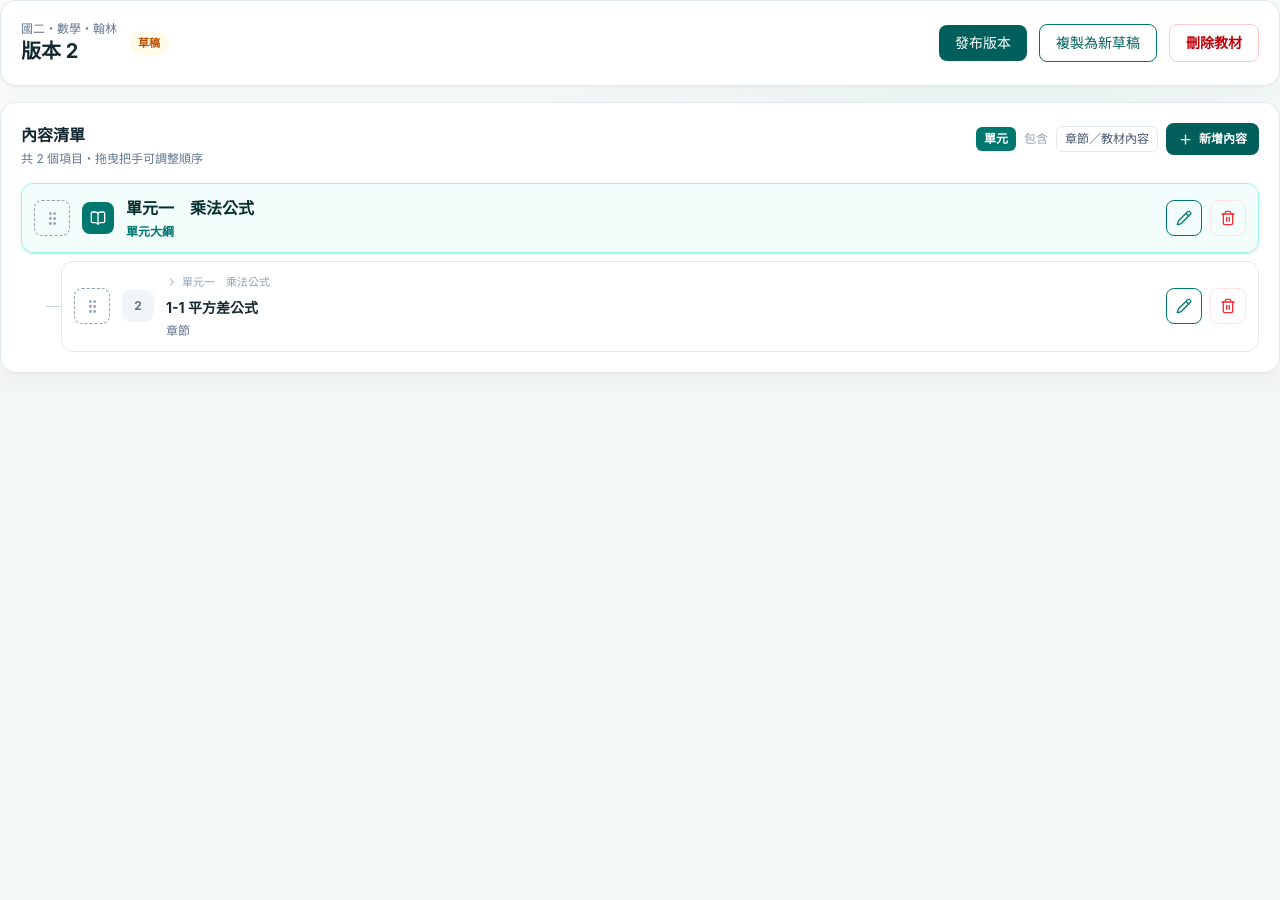
Test: CurriculumDetailView › keeps editing and deleting mutually exclusive across items
Click the button named "刪除「單元一　乘法公式」": [1228, 218] box [1210,200,1246,236]
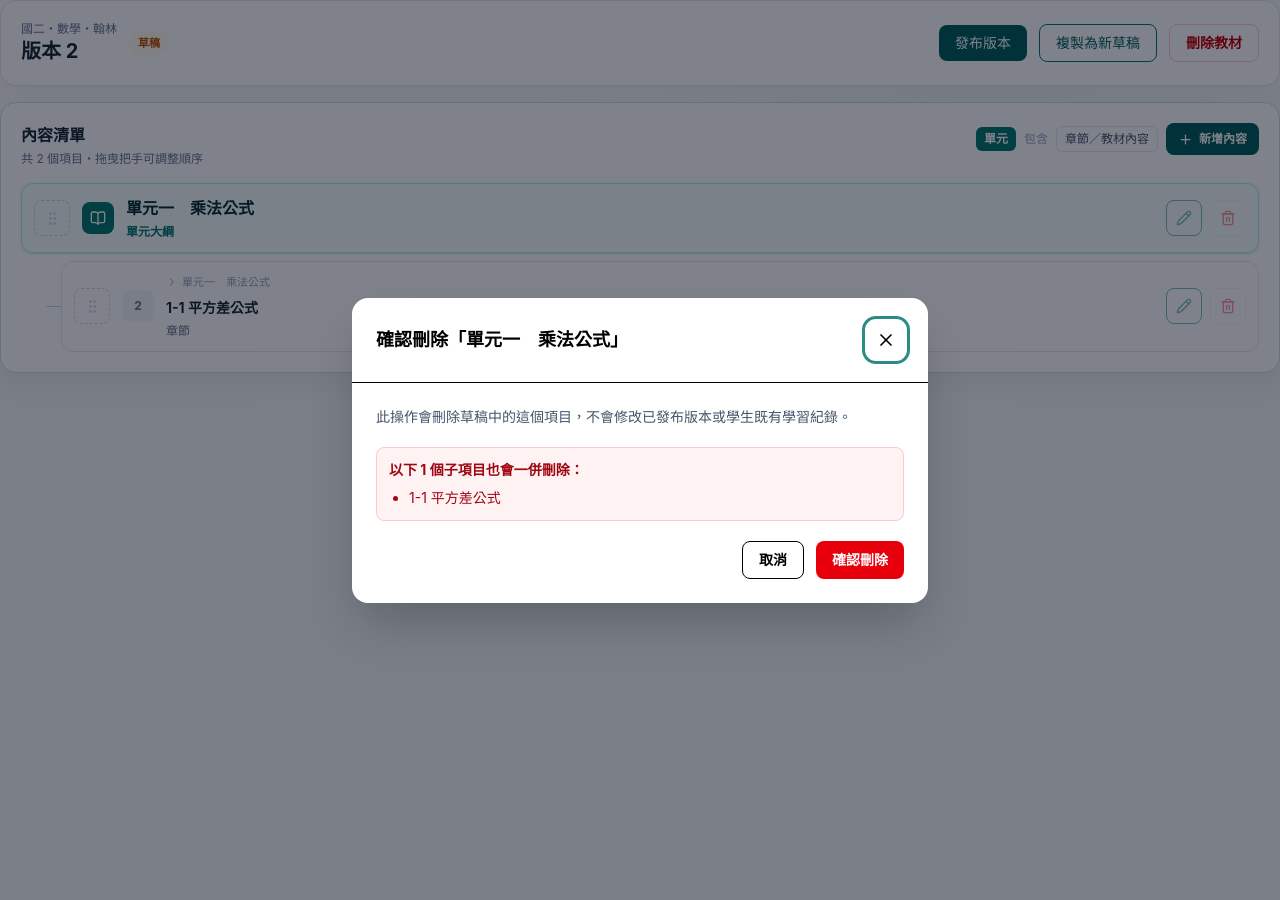
Expected: the dialog "編輯教材內容" is not shown
Now the button named "編輯「1-1 平方差公式」" is disabled, box [1166,288,1202,324]
Click the button "取消": [773, 560] box [742,540,804,578]
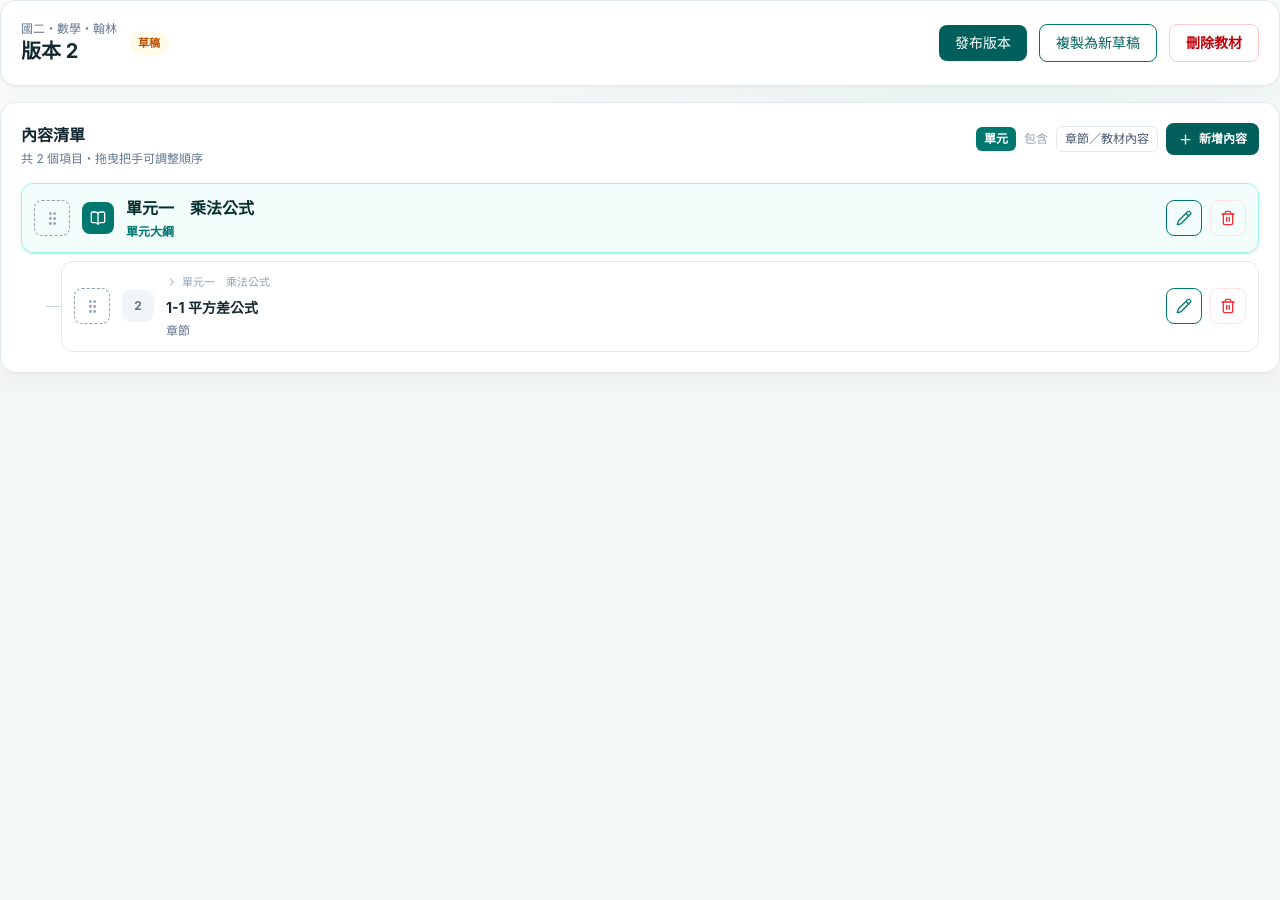
Click the button named "編輯「1-1 平方差公式」": [1184, 306] box [1166,288,1202,324]
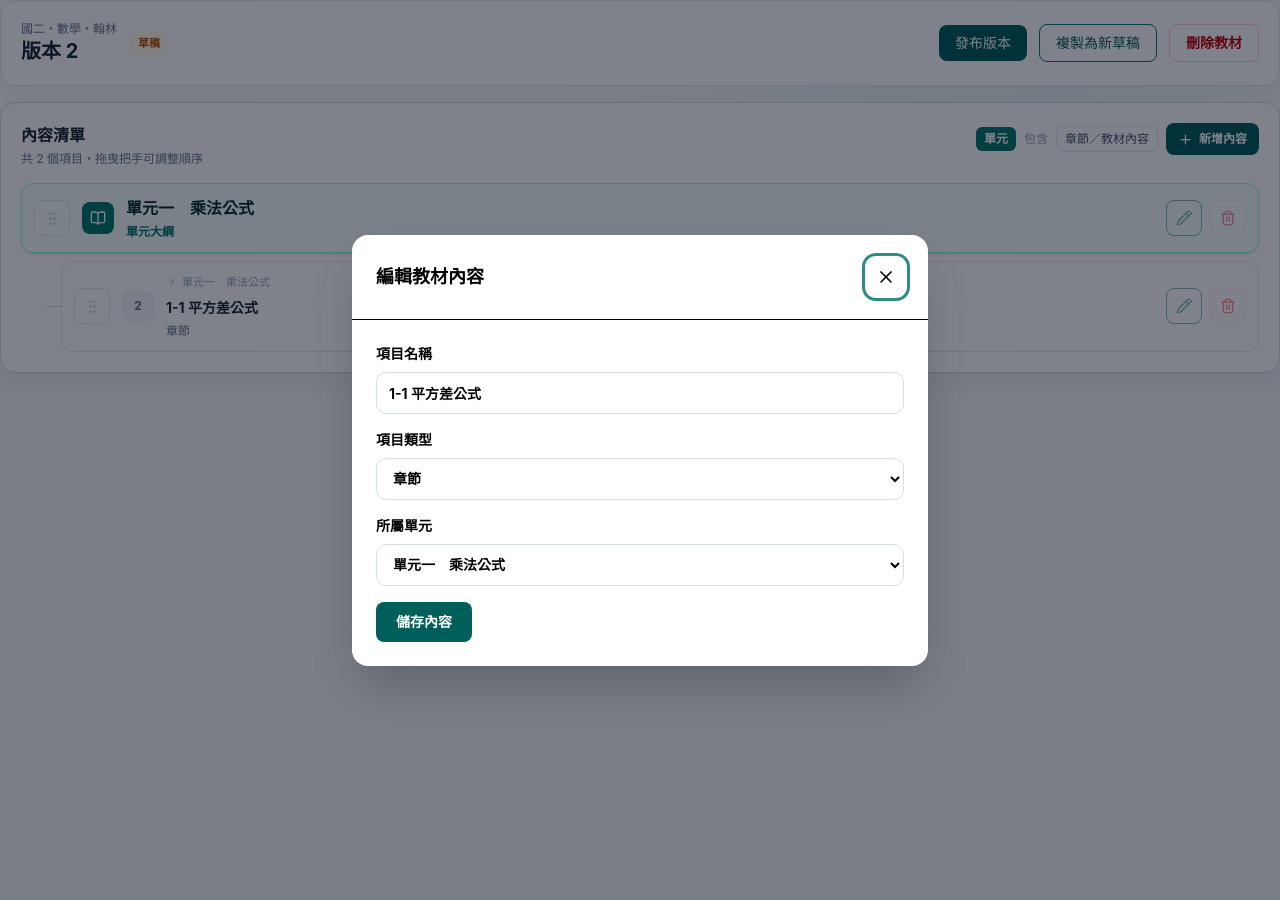
Expected: the heading "確認刪除" is not shown
Now the number of dialogs is 1, box [352,234,928,666]
Now the button named "刪除「單元一　乘法公式」" is disabled, box [1210,200,1246,236]
Click the button named "關閉編輯教材內容": [886, 276] box [868,258,904,294]
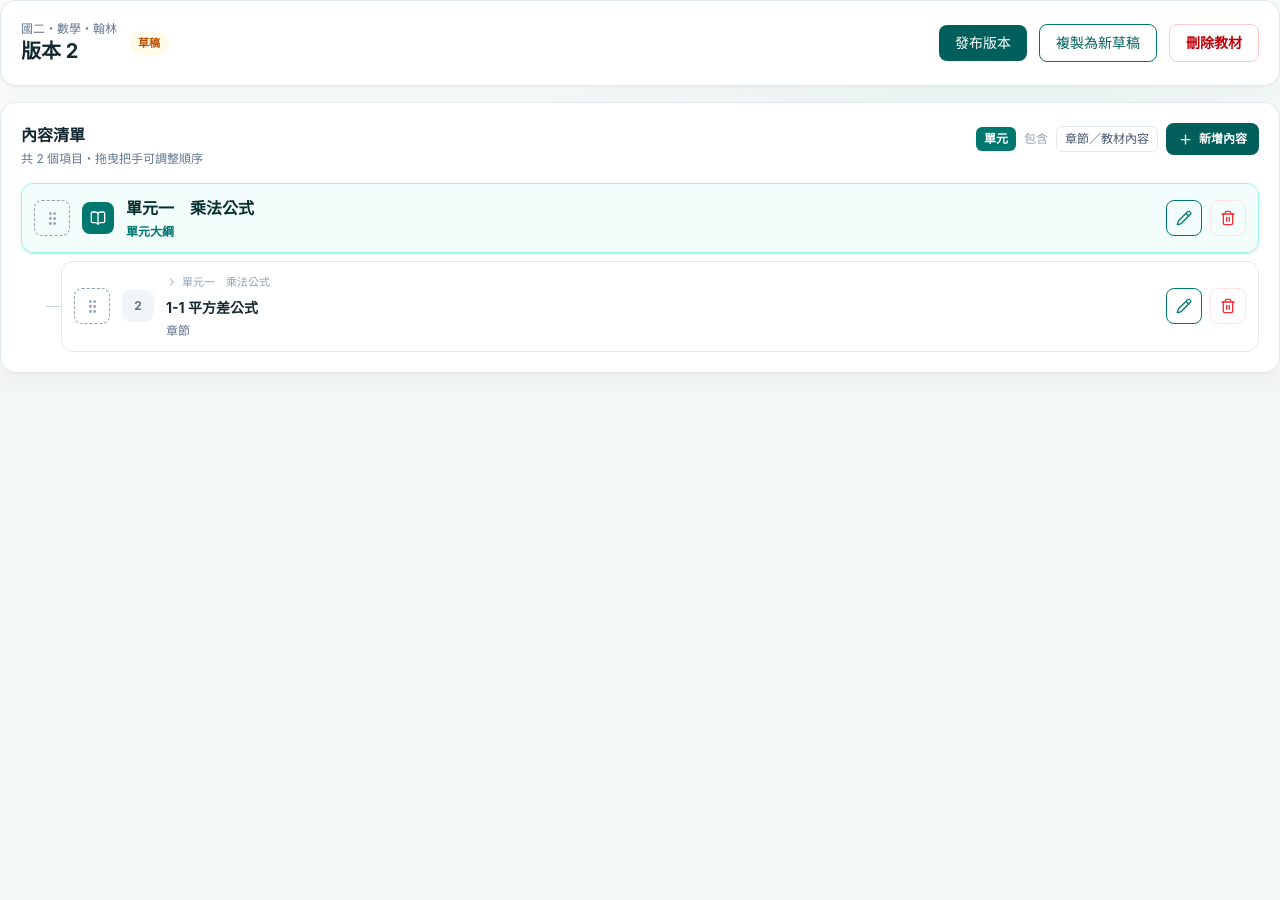
Now the dialog is gone
Now the button named "刪除「單元一　乘法公式」" is enabled, box [1210,200,1246,236]
